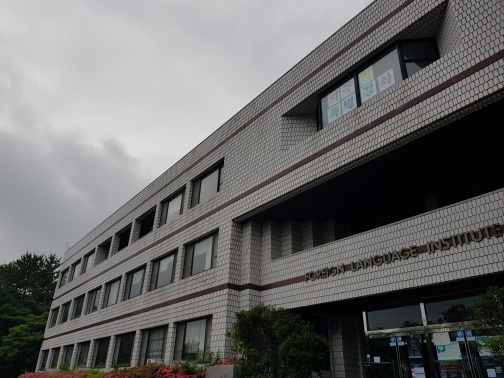Foreign Language Institute: (32, 10, 504, 366), (282, 32, 457, 131), (300, 219, 504, 283), (83, 229, 227, 308)
